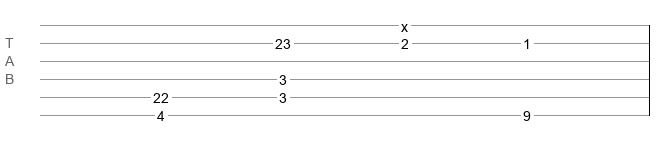1: (523, 36, 531, 46)
2: (401, 36, 409, 46)
22: (153, 90, 169, 100)
23: (275, 36, 291, 46)
3: (279, 72, 287, 82), (279, 90, 287, 100)
4: (157, 108, 165, 118)
9: (523, 108, 531, 118)
x: (401, 19, 408, 27)
